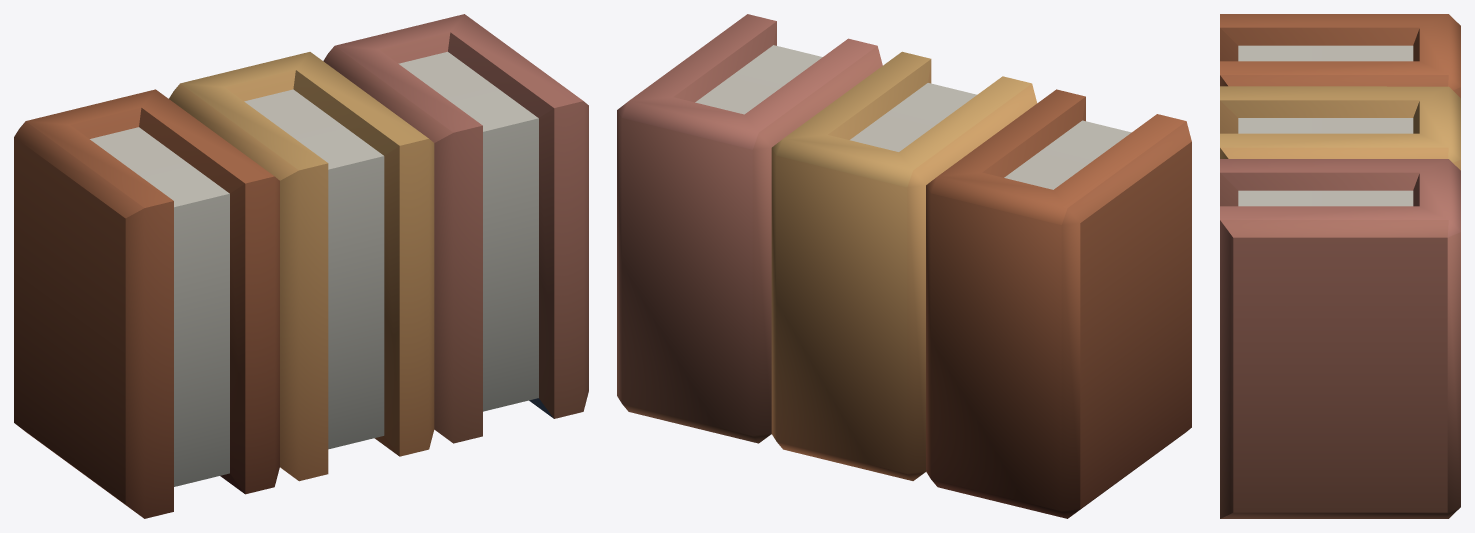
File: book-set.glb
The picture shows the model from 3 angles, left to right: view 1: azimuth 30°, elevation 25°; view 2: azimuth 150°, elevation 25°; view 3: azimuth 270°, elevation 25°; orthographic projection. The views are drawn at different scales.
Parts seen in each view (by area): view 1: book-set; view 2: book-set; view 3: book-set.
Part boxes in pixels (x1,y1,x2,y2): book-set: (14, 14, 588, 518); book-set: (617, 14, 1191, 518); book-set: (1220, 14, 1460, 518).
Size of the model in its own units: 0.39 by 0.25 by 0.1825.
